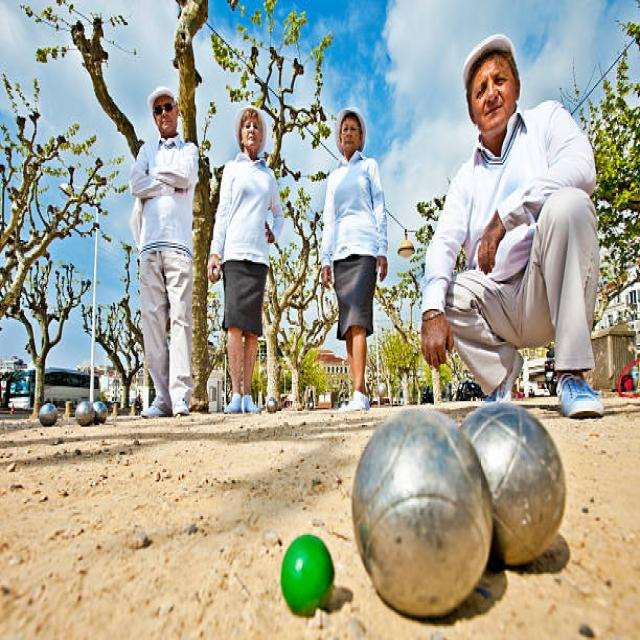hatball: (272, 531, 338, 624)
petanque: (347, 405, 499, 623), (457, 396, 569, 569), (36, 400, 62, 433), (89, 400, 111, 428), (76, 400, 94, 429), (266, 395, 280, 417)
